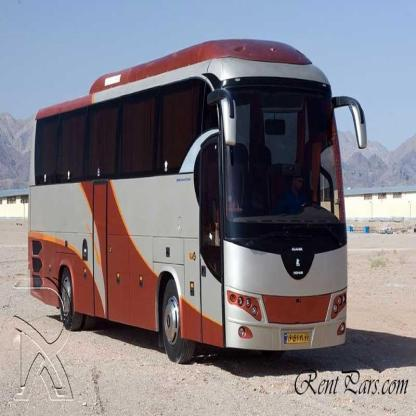Bus: (27, 35, 368, 374)
